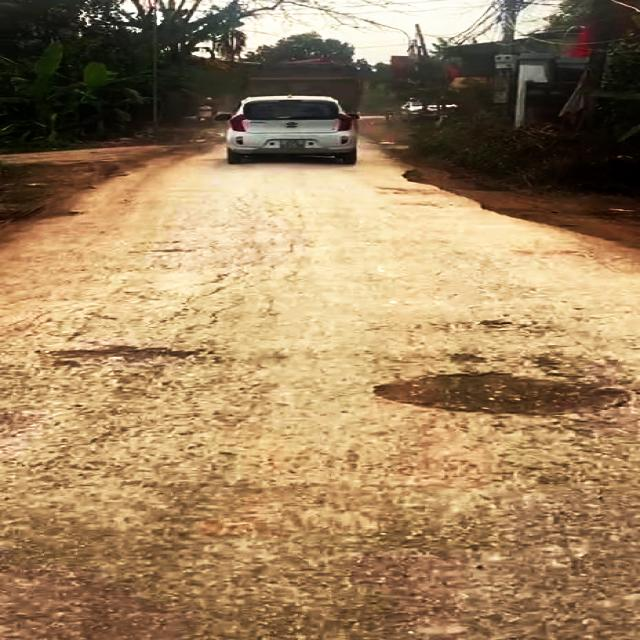pothole: (369, 369, 640, 419), (47, 342, 200, 370)
